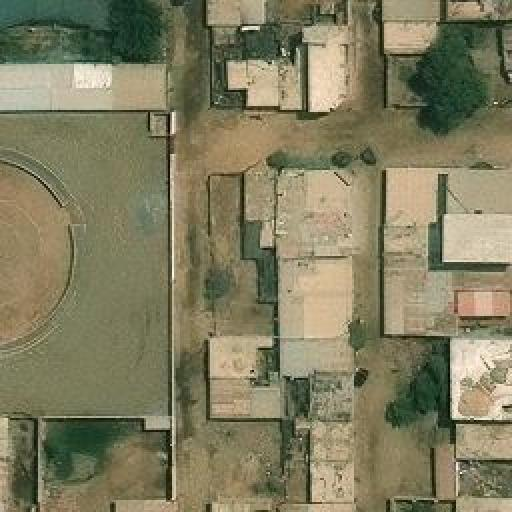manzanas: (0, 60, 181, 416), (208, 167, 364, 507), (380, 167, 510, 510), (212, 0, 356, 113), (377, 0, 510, 109)
